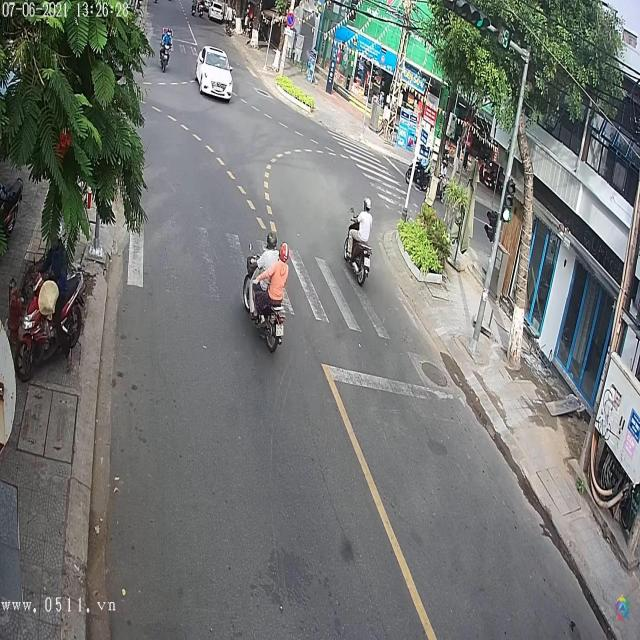car: (195, 48, 233, 104)
motorcycle: (241, 230, 288, 353), (343, 205, 375, 289), (156, 28, 176, 77)
